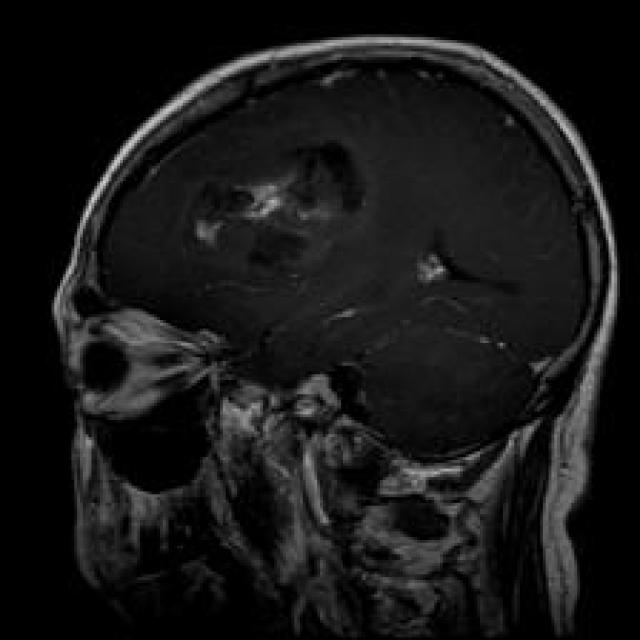glioma_tumor: (174, 136, 383, 294)
